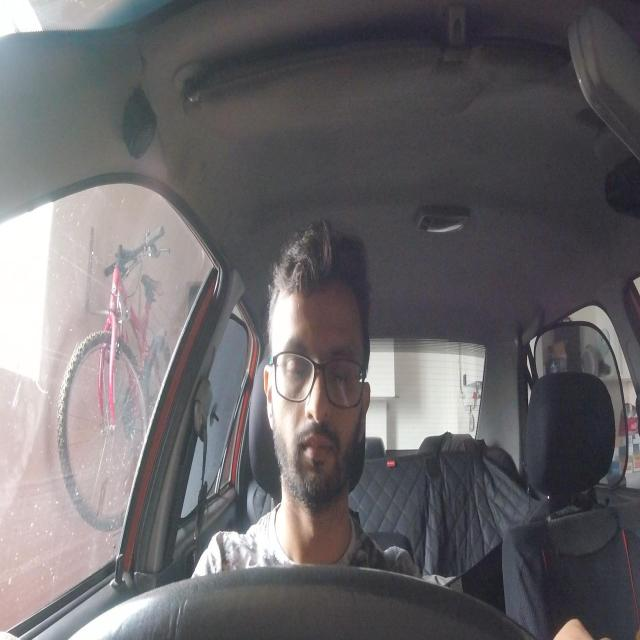close: (281, 333, 310, 387), (327, 344, 355, 389)
